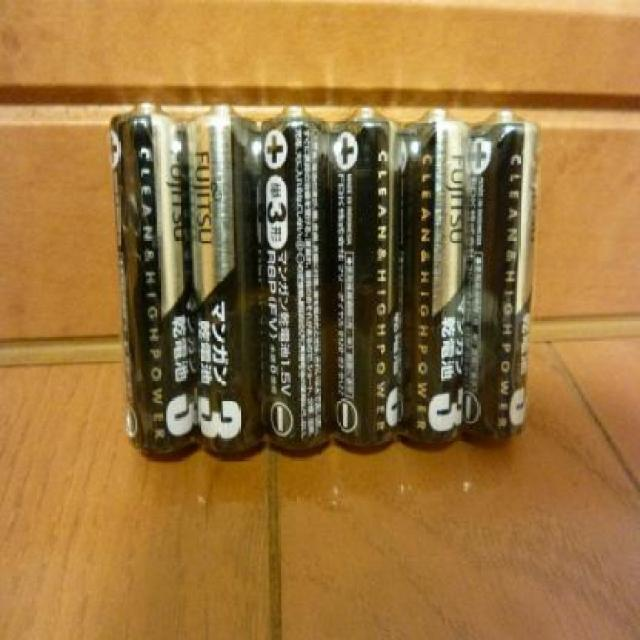hazardous waste: (97, 88, 197, 470), (458, 103, 550, 444), (184, 97, 264, 460), (395, 109, 477, 448), (332, 102, 405, 456), (260, 102, 332, 456)
